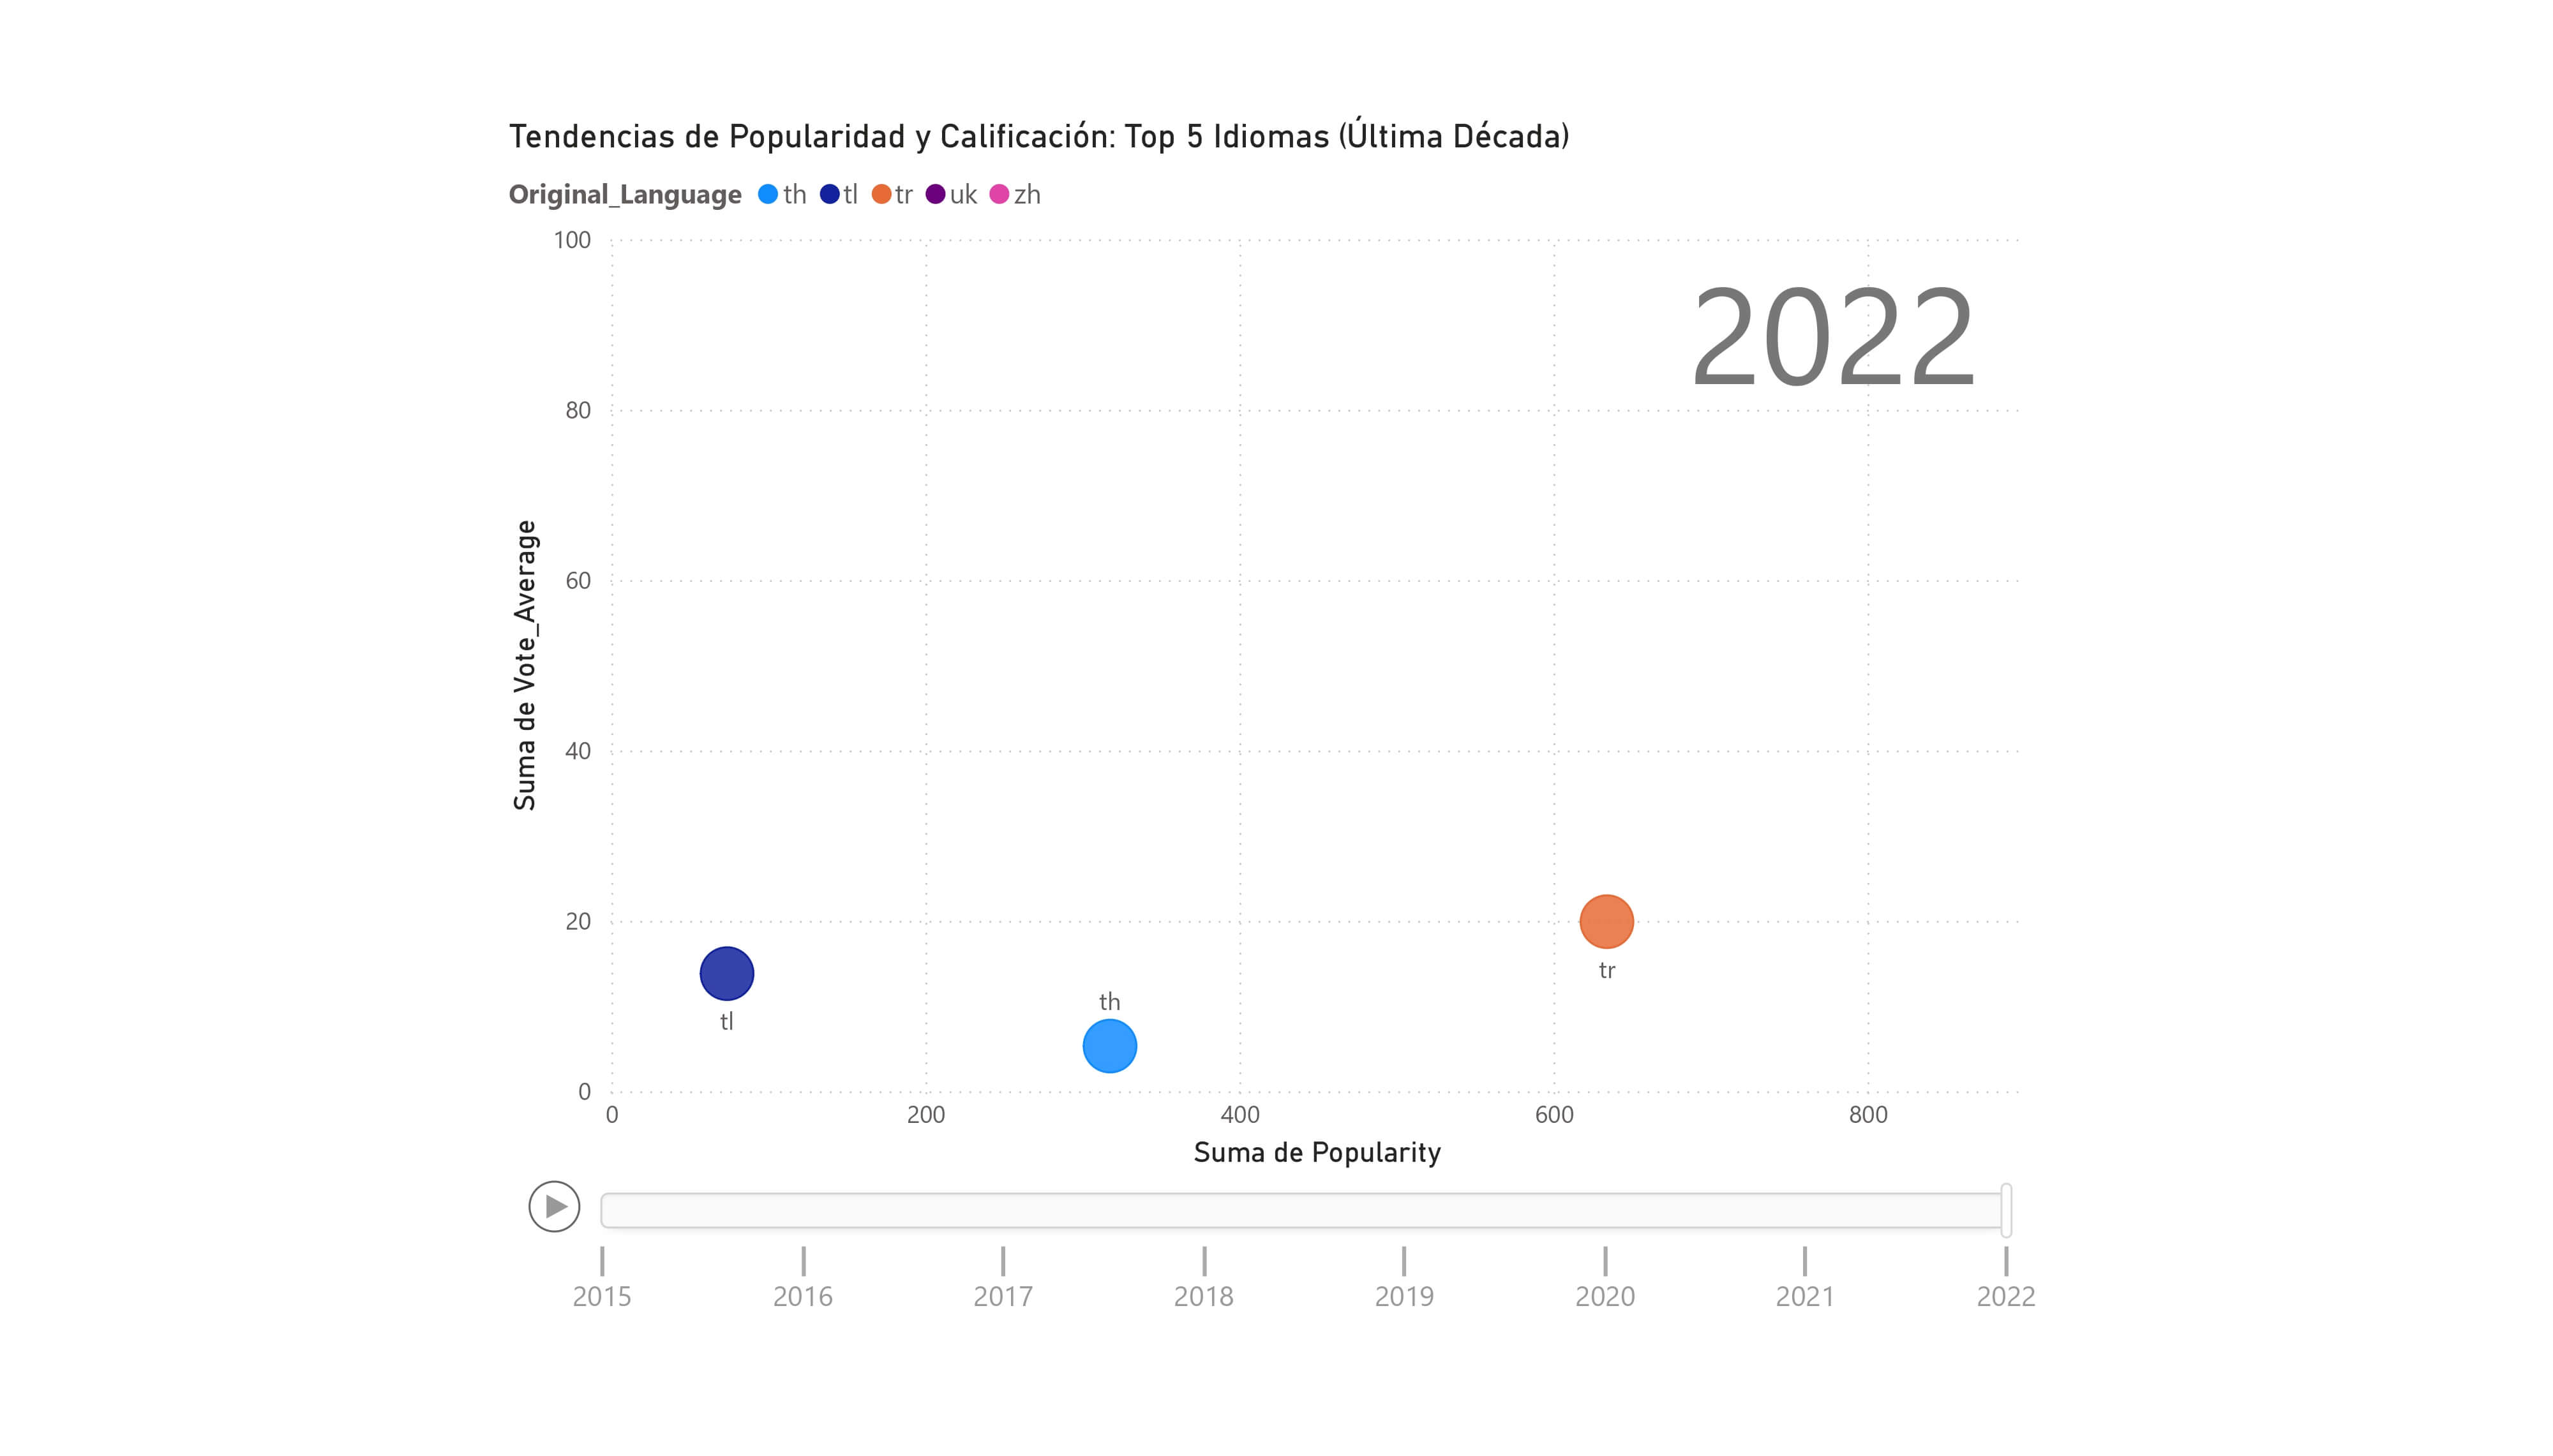

Layout of this report page (visuals, bound fields, positions):
{"tool":"powerbi","page":{"name":"Página 4","canvas":[1280,720],"ordinal":3},"visuals":[{"type":"scatterChart","title":"Tendencias de Popularidad y Calificación: Top 5 Idiomas (Última Década)","fields":{"X":["Sum(mymoviedb_2.Popularity)"],"Y":["mymoviedb_2.Vote_Average"],"Play":["mymoviedb_2.Year"],"Series":["mymoviedb_2.Original_Language"]},"box":[250,53,780,613],"z":0}]}

Visuals, with their boxes in screenshot pixels (x1, y1, x2, y2), scaled from the page's 1280x720 canvas onto the 2553x1456 screenshot:
"Tendencias de Popularidad y Calificación: Top 5 Idiomas (Última Década)" scatterChart: BBox(498, 107, 2055, 1347)
